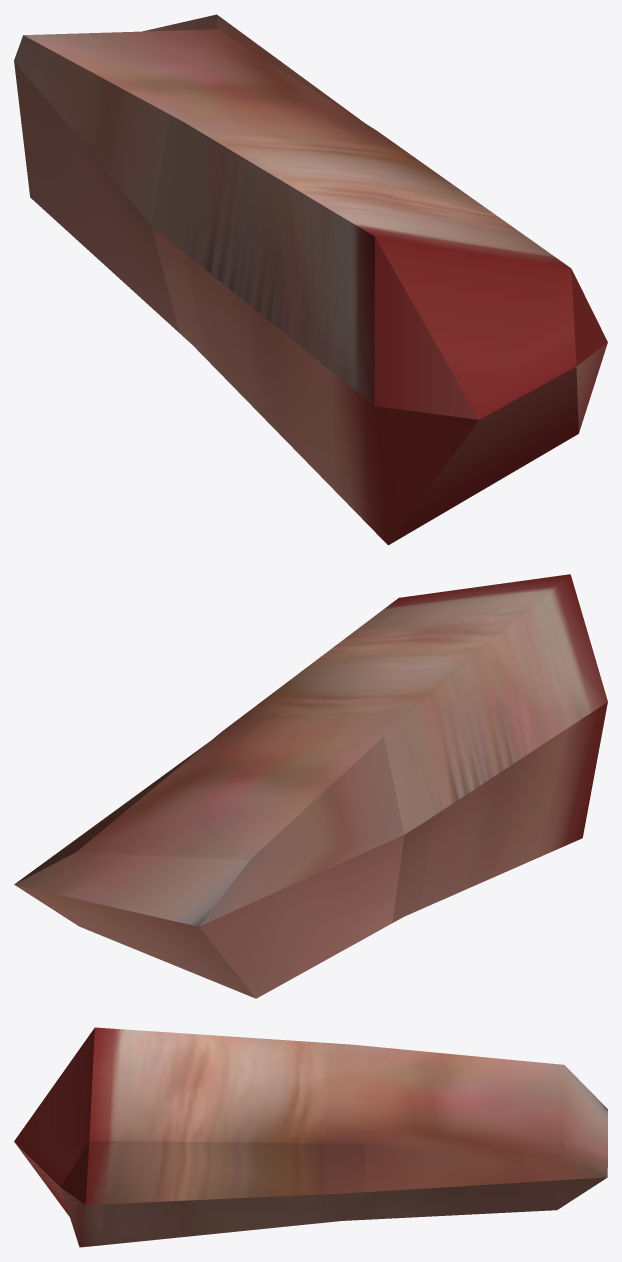
File: finger.fbx
3 renders of one model, top to bottom at view 1: azimuth 30°, elevation 25°; view 2: azimuth 150°, elevation 25°; view 3: azimuth 270°, elevation 25°, orthographic. The views are drawn at different scales.
Parts seen in each view (by area): view 1: Cube.002; view 2: Cube.002; view 3: Cube.002.
Boxes of the visible parts, bbox=[...] form: Cube.002: bbox=[14, 14, 607, 545]; Cube.002: bbox=[14, 574, 607, 998]; Cube.002: bbox=[14, 1027, 607, 1247].
Size of the model in its own units: 17.77 by 20.58 by 55.48.
Materials: 1 (1 with a texture image).
